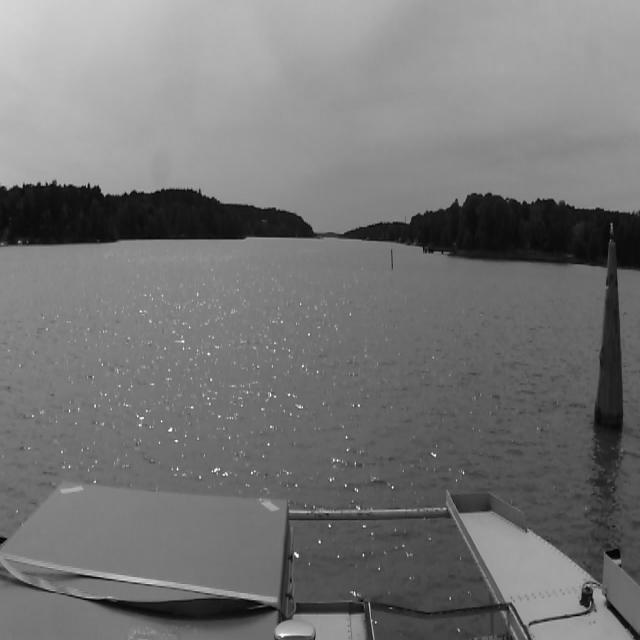buoy: (597, 224, 623, 432), (391, 249, 393, 270)
